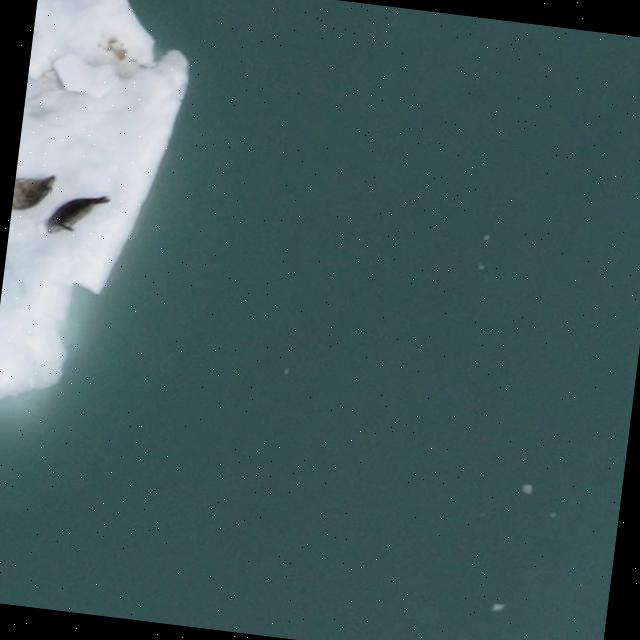seal: (38, 178, 110, 244)
